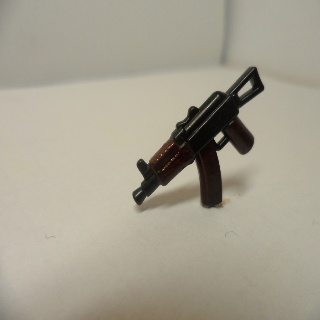rifle: (130, 63, 266, 212)
